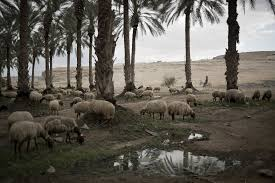sheep: (9, 120, 55, 157), (43, 116, 85, 147), (88, 99, 116, 124), (167, 100, 195, 122), (139, 100, 166, 120), (19, 88, 42, 105), (227, 88, 245, 106), (8, 111, 32, 124), (48, 98, 64, 116), (70, 94, 81, 109), (140, 89, 154, 100), (124, 91, 138, 101), (169, 88, 180, 95)
